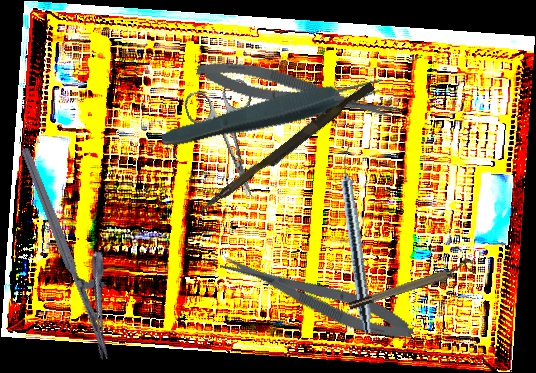Fixation Ring: (345, 256, 477, 313)
Handpiece: (335, 146, 378, 335)
Iris Scissors: (181, 76, 279, 208)
Micro Scissor: (216, 241, 419, 351), (193, 50, 402, 134)
Needle Holder: (19, 136, 139, 362)
Pusher: (197, 77, 376, 220)
Tissue Forceps: (158, 70, 388, 156)
